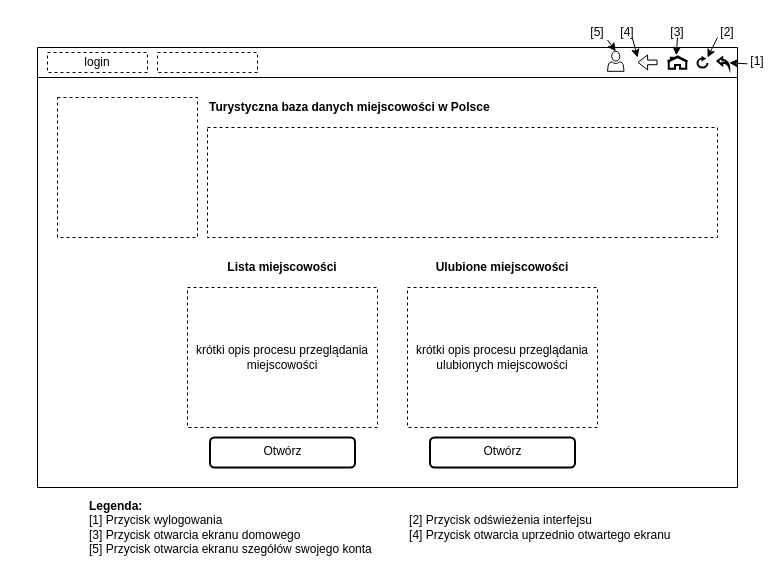
Image size: 784x579. Some labels were removed from this diagram. The shapes that lost their labels are listed below. From the top down, each one's centre as x and y in pixels, then its label:
At [207,62]: "rola".
At [127,167]: "ilustracja".
At [462,182]: "krótki opis bazy danych".
